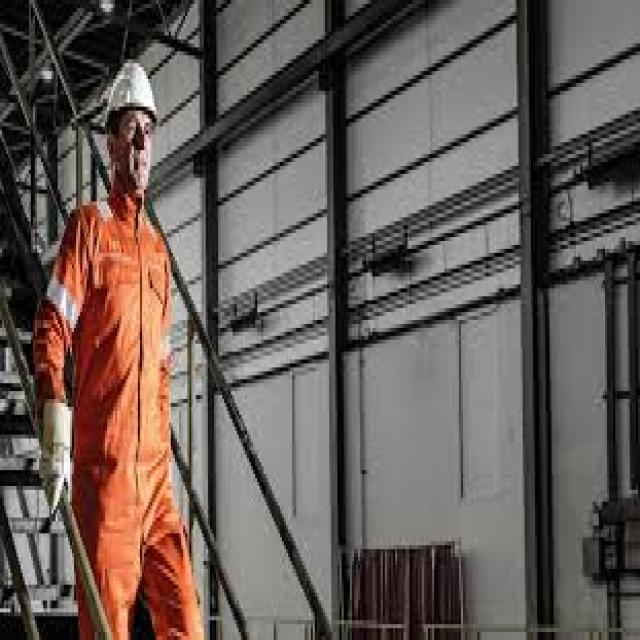vest: (38, 193, 204, 640)
